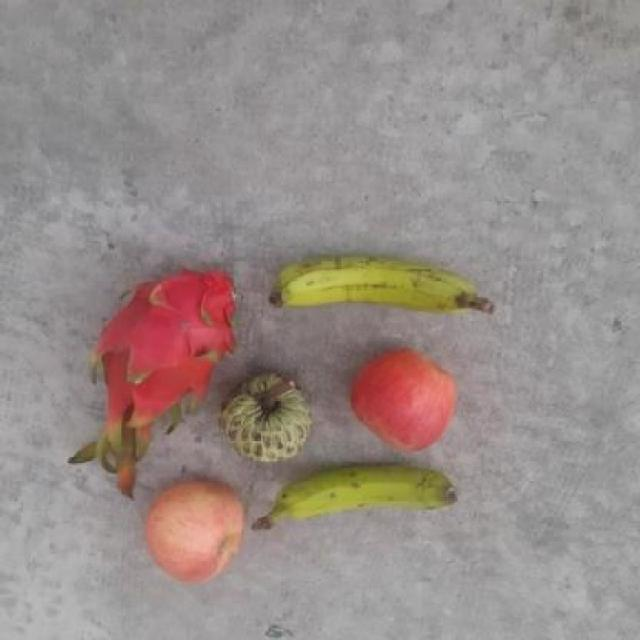apple: (352, 344, 460, 451), (144, 478, 251, 582)
banana: (269, 460, 466, 543), (263, 249, 472, 323)
dragon fruit: (96, 262, 242, 420)
sugar apple: (226, 374, 314, 464)
